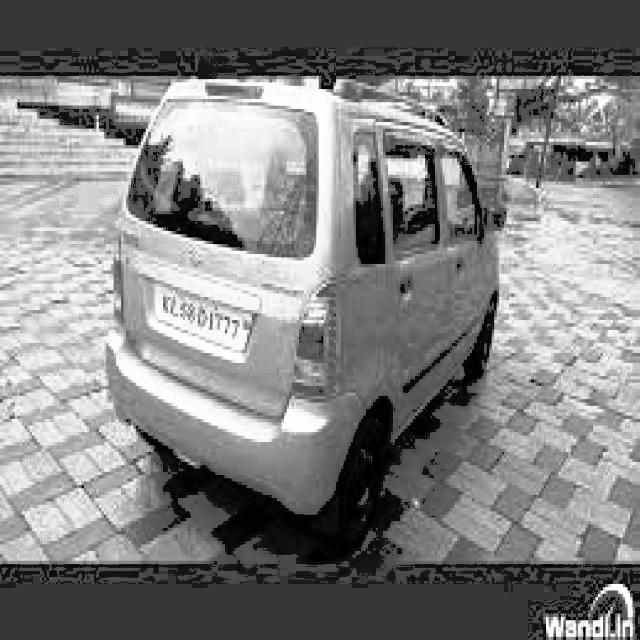Car: (107, 77, 515, 551)
